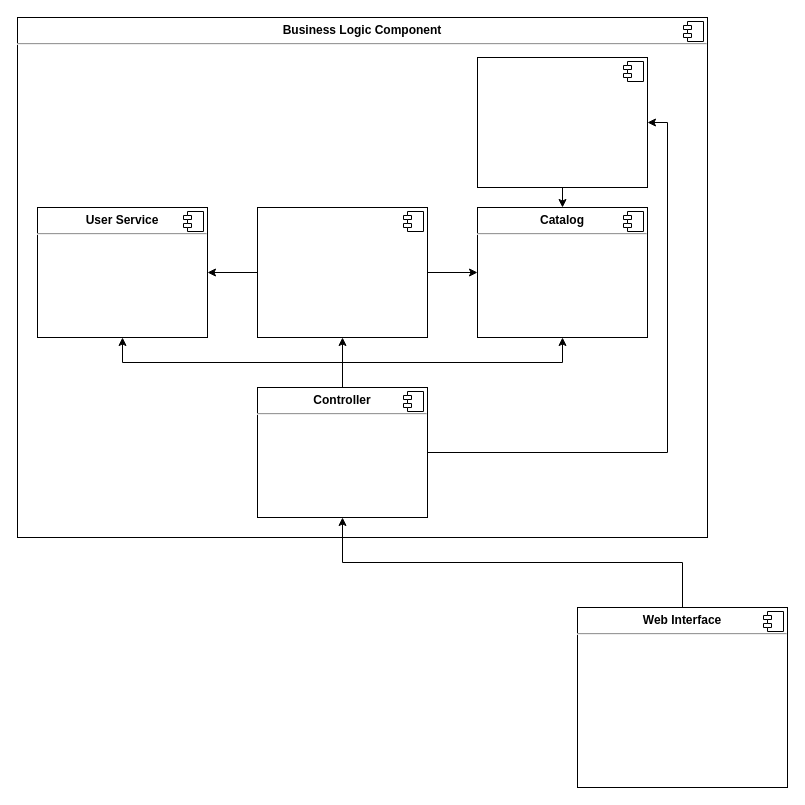
This 805x805 diagram has some shape labels left out. Each missing label, with the box of its shape:
Exporter: (476, 56, 648, 188)
Order Service: (256, 206, 428, 338)
